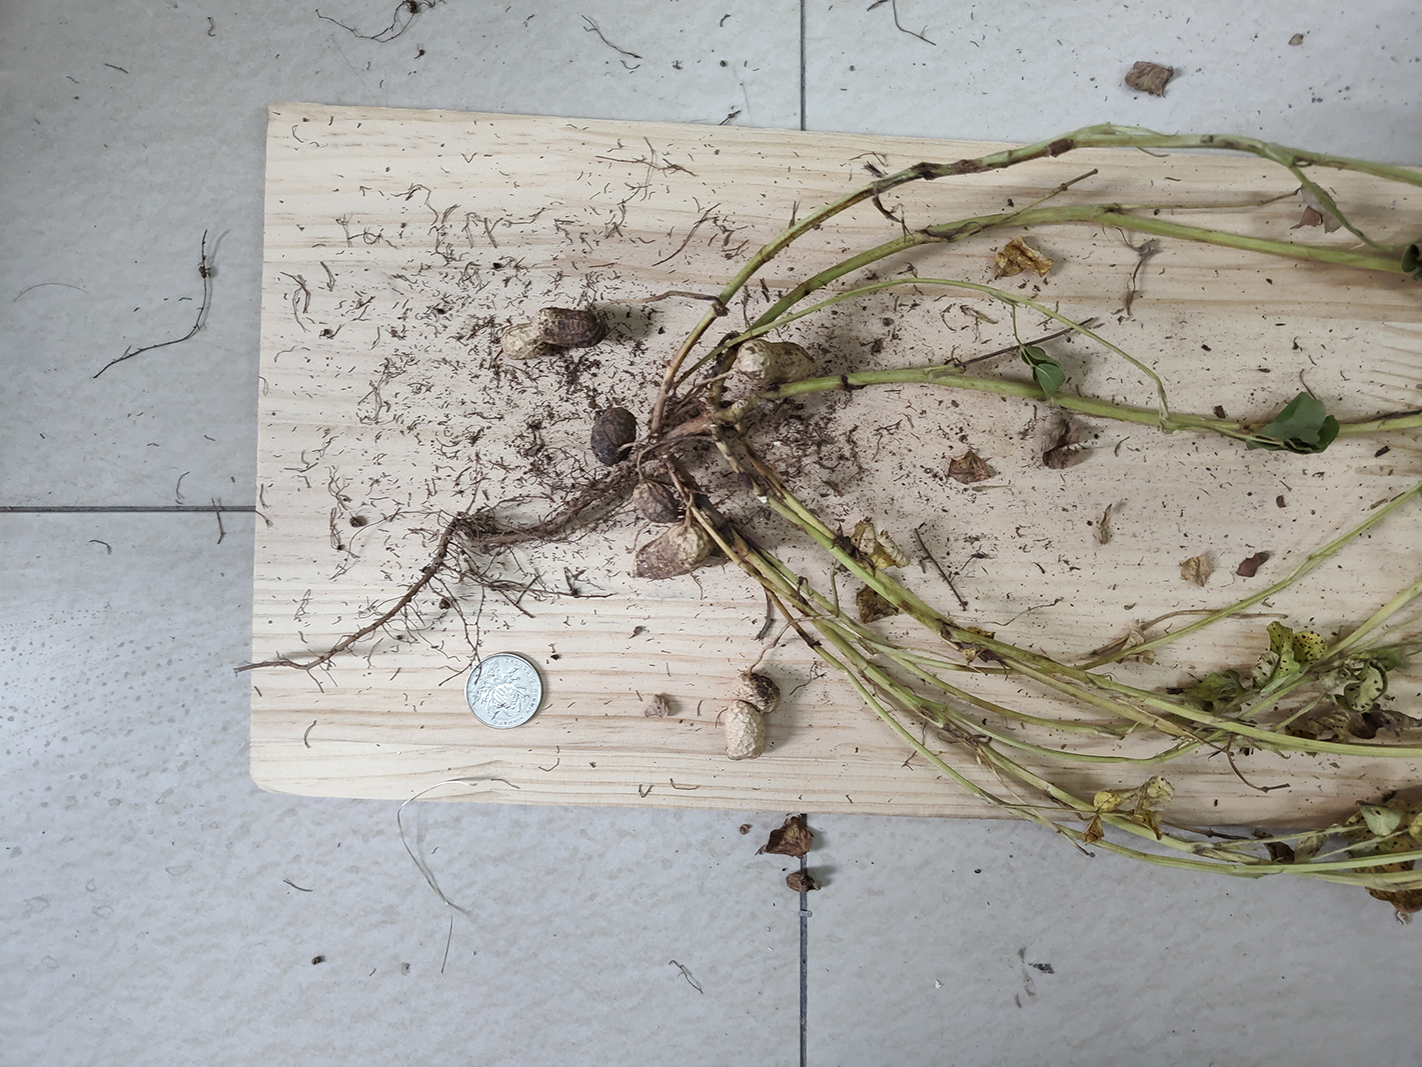h: (723, 672, 781, 762), (729, 340, 816, 386)
l: (501, 307, 600, 360), (633, 522, 712, 582), (591, 408, 635, 462), (633, 481, 678, 522)
